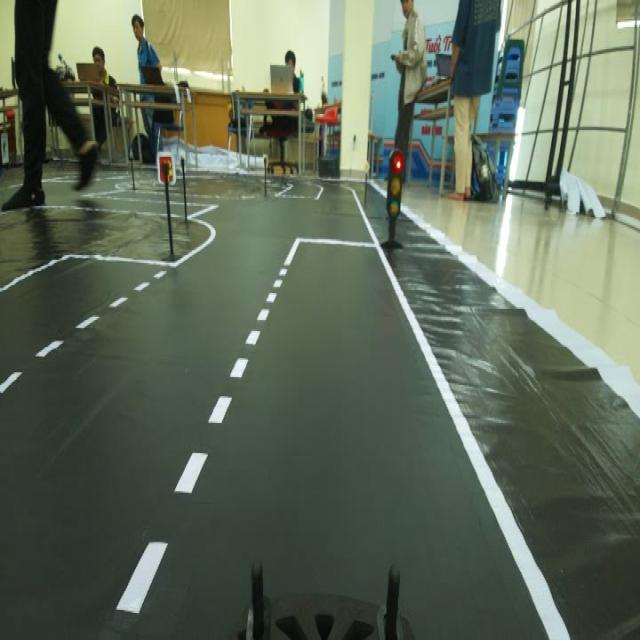trafficlight: (374, 138, 416, 264)
